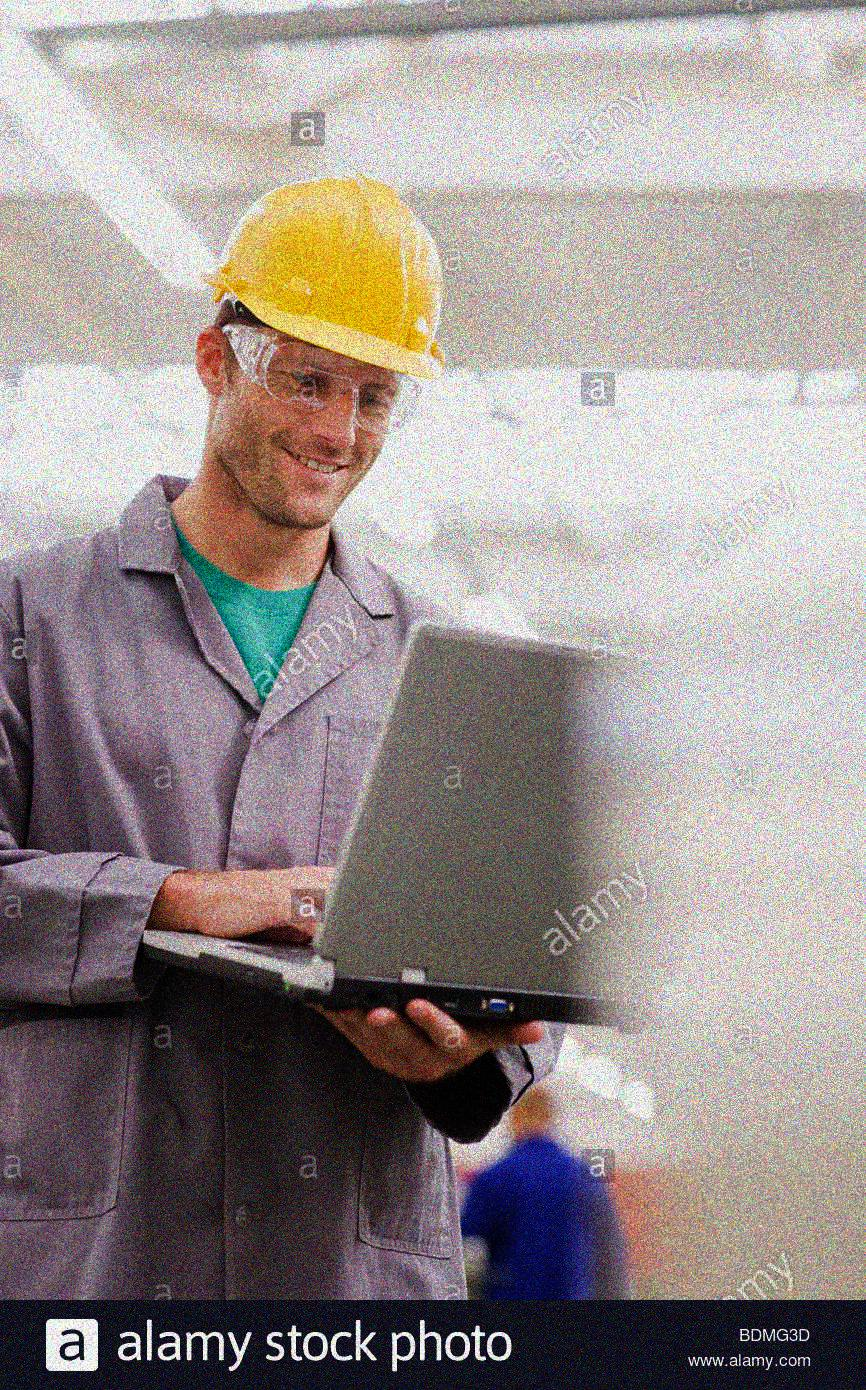helmet: (184, 170, 449, 538)
